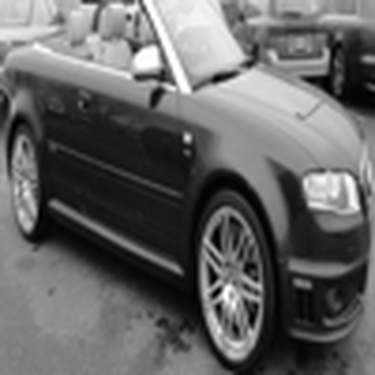car: (13, 8, 373, 354)
